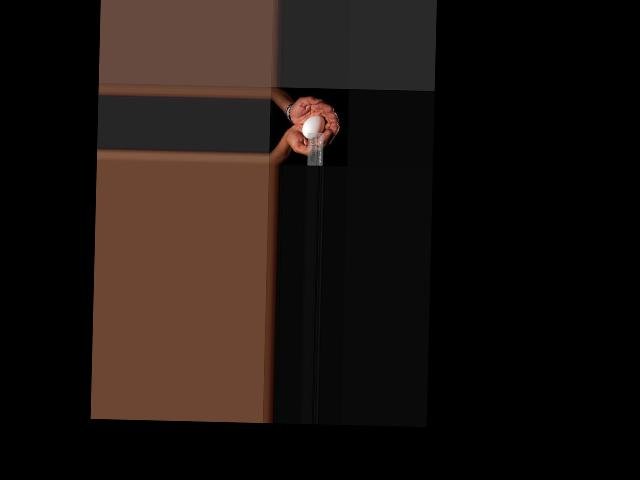egg: (302, 114, 325, 138)
